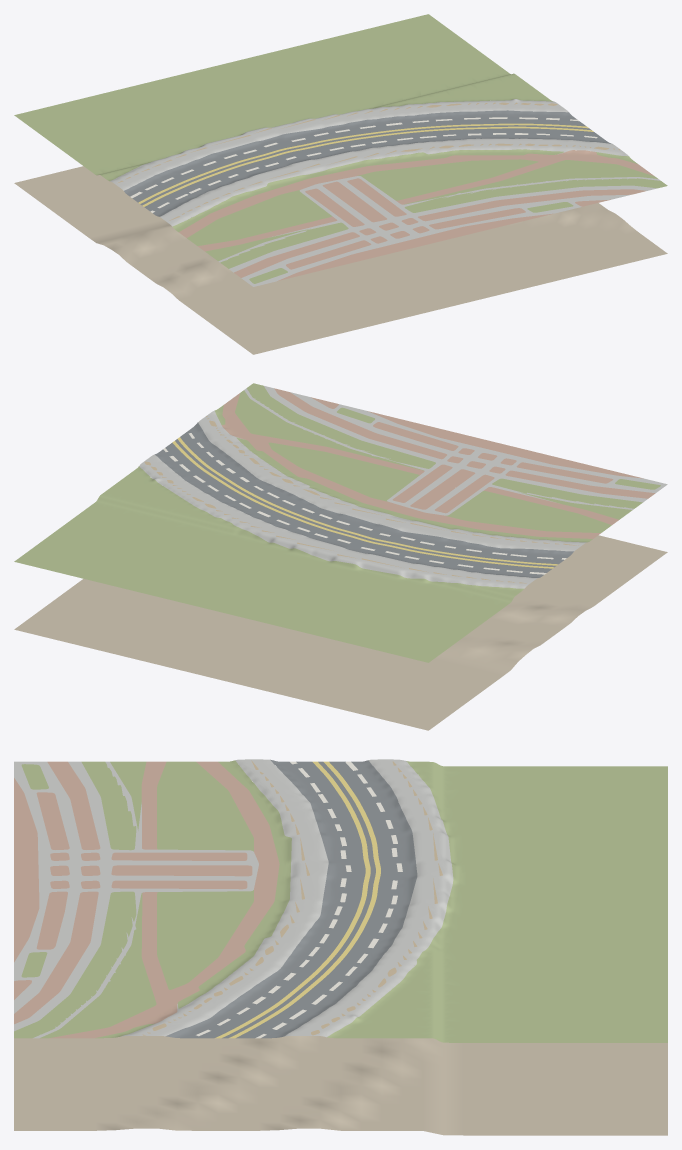
3 views of the same model, one above another, from view 1: azimuth 30°, elevation 25°; view 2: azimuth 150°, elevation 25°; view 3: azimuth 270°, elevation 25° (orthographic). The views are drawn at different scales.
Visible parts, largest first — view 1: s_-1_-6__grass, s_-1_-6__soil, s_-1_-6__stone_paving, s_-1_-6__brick_paving, s_-1_-6__asphalt, s_-1_-6__yellow_marking, s_-1_-6__white_marking, s_-1_-6__timber_deck; view 2: s_-1_-6__grass, s_-1_-6__soil, s_-1_-6__stone_paving, s_-1_-6__brick_paving, s_-1_-6__asphalt, s_-1_-6__yellow_marking, s_-1_-6__white_marking, s_-1_-6__timber_deck; view 3: s_-1_-6__grass, s_-1_-6__soil, s_-1_-6__stone_paving, s_-1_-6__brick_paving, s_-1_-6__asphalt, s_-1_-6__yellow_marking, s_-1_-6__white_marking, s_-1_-6__timber_deck.
Boxes of the visible parts, x1,y1,x2,y2 form: s_-1_-6__grass: (14, 14, 667, 283); s_-1_-6__soil: (14, 106, 667, 354); s_-1_-6__stone_paving: (110, 99, 660, 286); s_-1_-6__brick_paving: (179, 150, 654, 281); s_-1_-6__asphalt: (124, 110, 611, 216); s_-1_-6__yellow_marking: (138, 123, 593, 206); s_-1_-6__white_marking: (130, 117, 597, 212); s_-1_-6__timber_deck: (117, 102, 619, 220); s_-1_-6__grass: (14, 383, 660, 662); s_-1_-6__soil: (14, 535, 667, 730); s_-1_-6__stone_paving: (139, 386, 667, 588); s_-1_-6__brick_paving: (222, 388, 655, 538); s_-1_-6__asphalt: (155, 422, 573, 577); s_-1_-6__yellow_marking: (172, 437, 558, 568); s_-1_-6__white_marking: (163, 433, 566, 574); s_-1_-6__timber_deck: (144, 416, 578, 583); s_-1_-6__grass: (14, 760, 667, 1042); s_-1_-6__soil: (14, 965, 667, 1135); s_-1_-6__stone_paving: (14, 759, 453, 1038); s_-1_-6__brick_paving: (14, 761, 279, 1038); s_-1_-6__asphalt: (166, 759, 417, 1038); s_-1_-6__yellow_marking: (215, 761, 380, 1038); s_-1_-6__white_marking: (196, 761, 402, 1038); s_-1_-6__timber_deck: (142, 760, 442, 1035).
Size of the model in its own units: 128 by 21.75 by 128.
